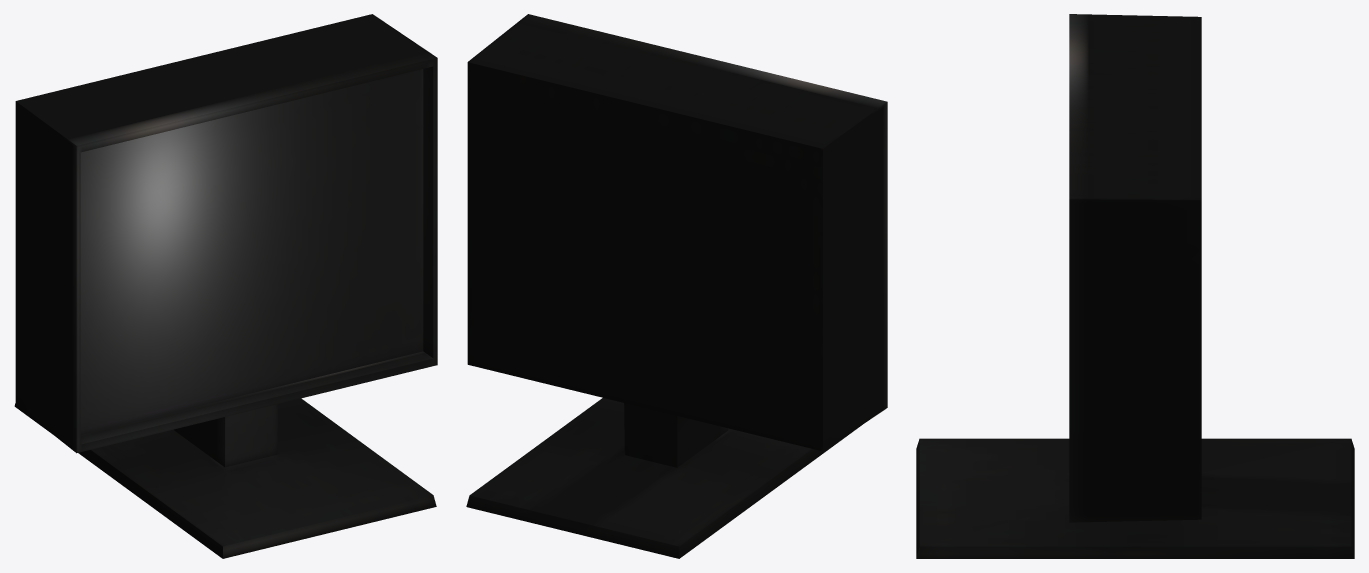
3 renders of one model, left to right at view 1: azimuth 30°, elevation 25°; view 2: azimuth 150°, elevation 25°; view 3: azimuth 270°, elevation 25°, orthographic. The views are drawn at different scales.
Parts seen in each view (by area): view 1: tv.001; view 2: tv.001; view 3: tv.001.
Part boxes in pixels (<box>): tv.001: <box>14,14,437,558</box>; tv.001: <box>466,14,887,558</box>; tv.001: <box>916,14,1354,558</box>.
Size of the model in its own units: 1 by 1 by 1.
1 material, 1 textured.
